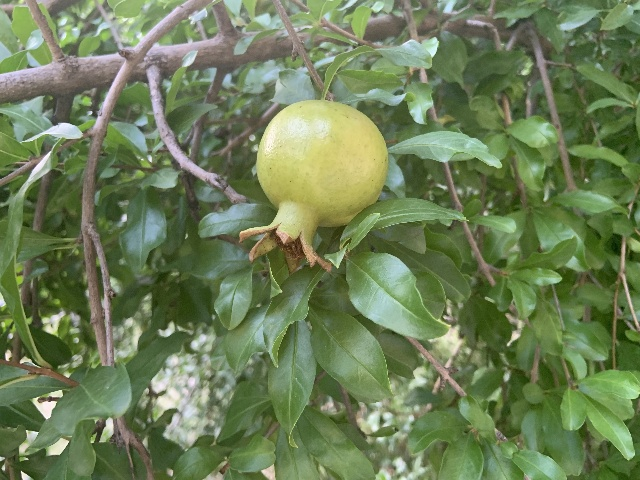mid-growth: (237, 99, 388, 275)
